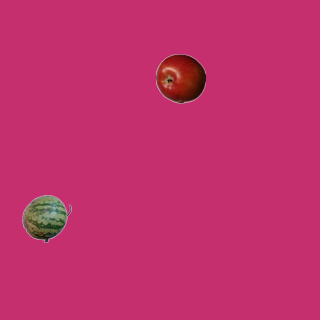Apple Braeburn: (155, 53, 205, 103)
Watermelon: (21, 193, 71, 243)
